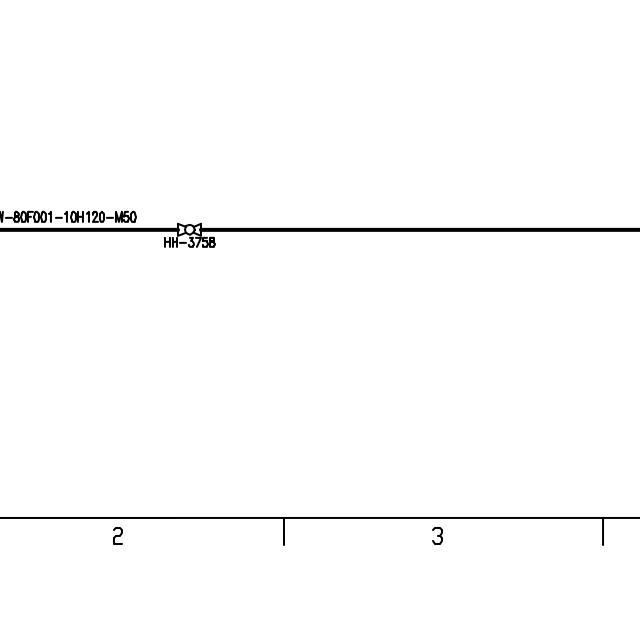BV2: (173, 218, 204, 238)
